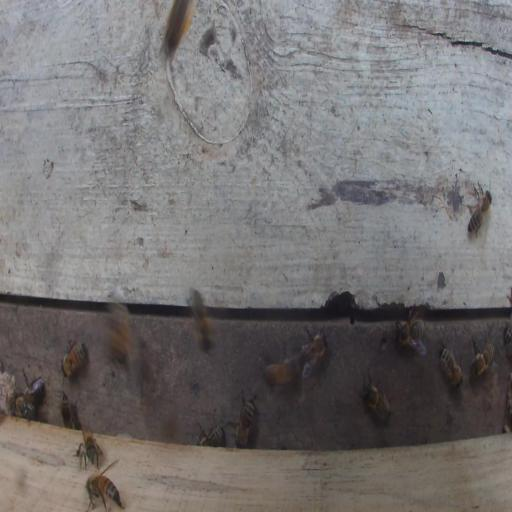bee: (163, 1, 194, 61), (192, 287, 212, 355), (75, 425, 103, 469), (298, 331, 326, 373), (364, 383, 392, 425), (86, 476, 123, 507), (468, 189, 492, 232), (438, 346, 462, 388), (60, 342, 87, 379), (235, 401, 255, 448), (265, 358, 296, 385), (396, 318, 425, 346), (472, 343, 494, 378), (9, 396, 35, 419), (24, 377, 45, 405), (201, 425, 223, 448), (62, 398, 72, 428), (503, 326, 512, 357)
